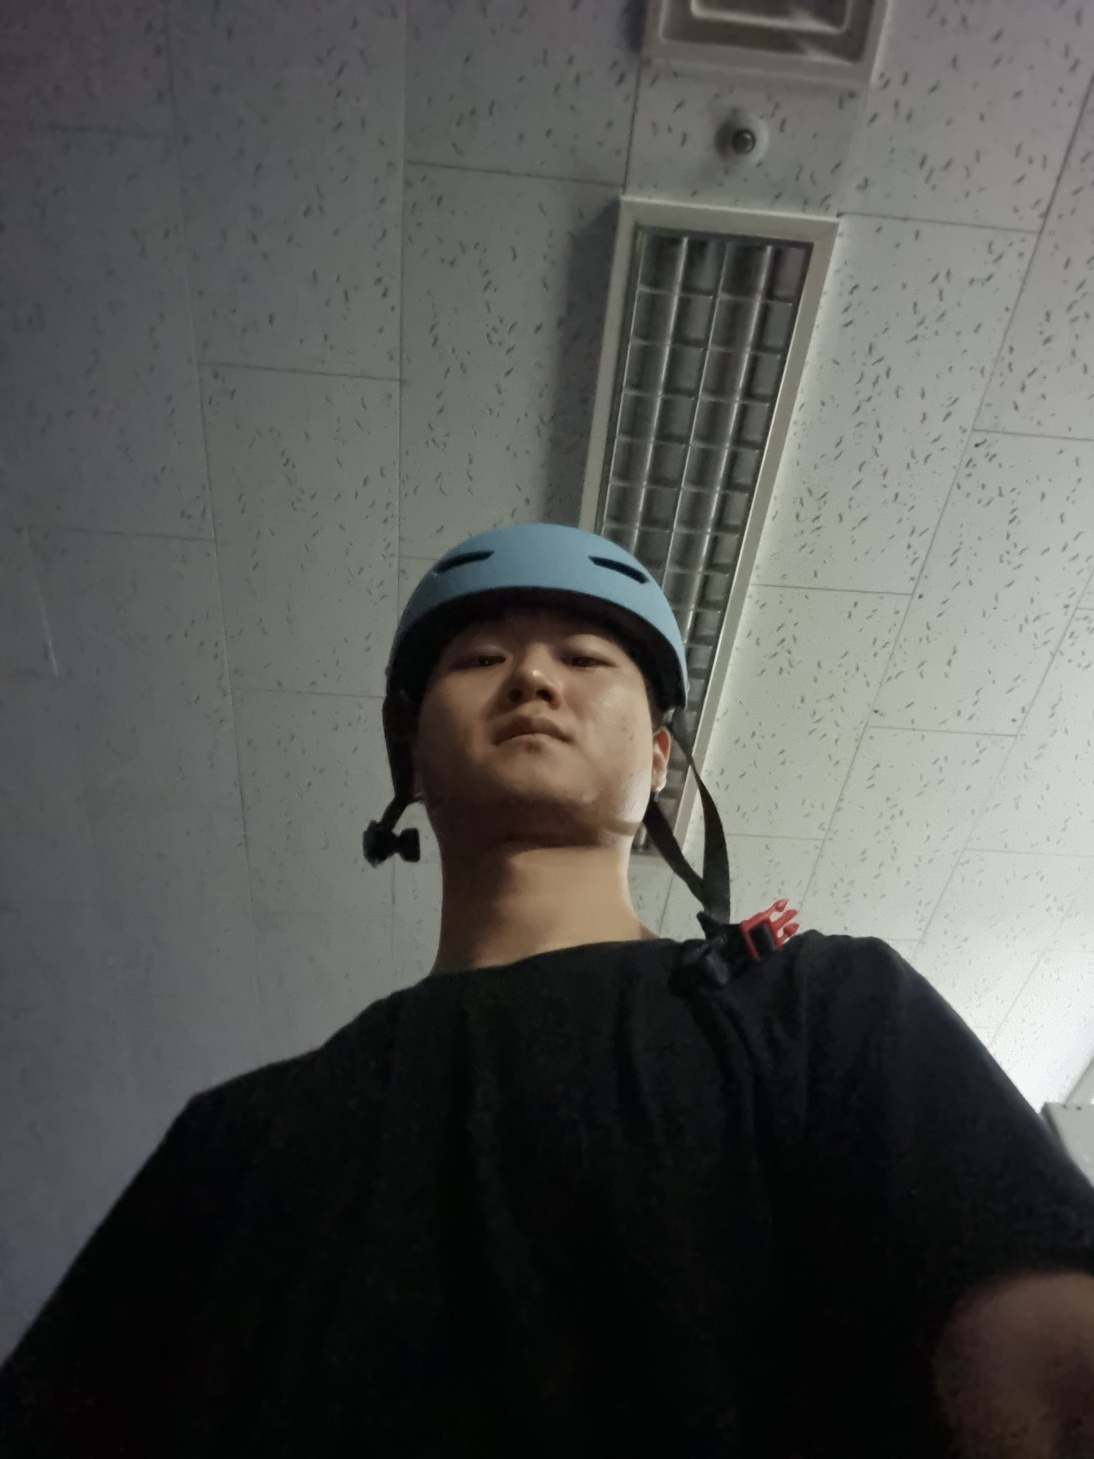Helmet: (325, 484, 731, 897)
